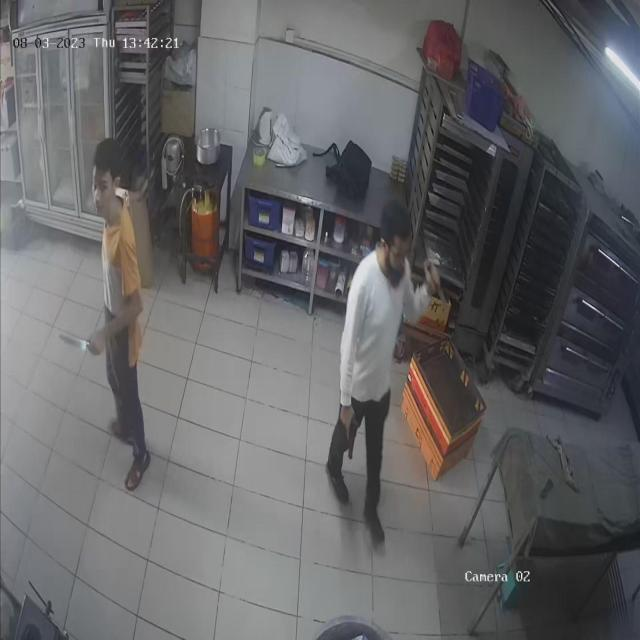Gun: (339, 394, 368, 475)
Knife: (56, 315, 120, 356)
